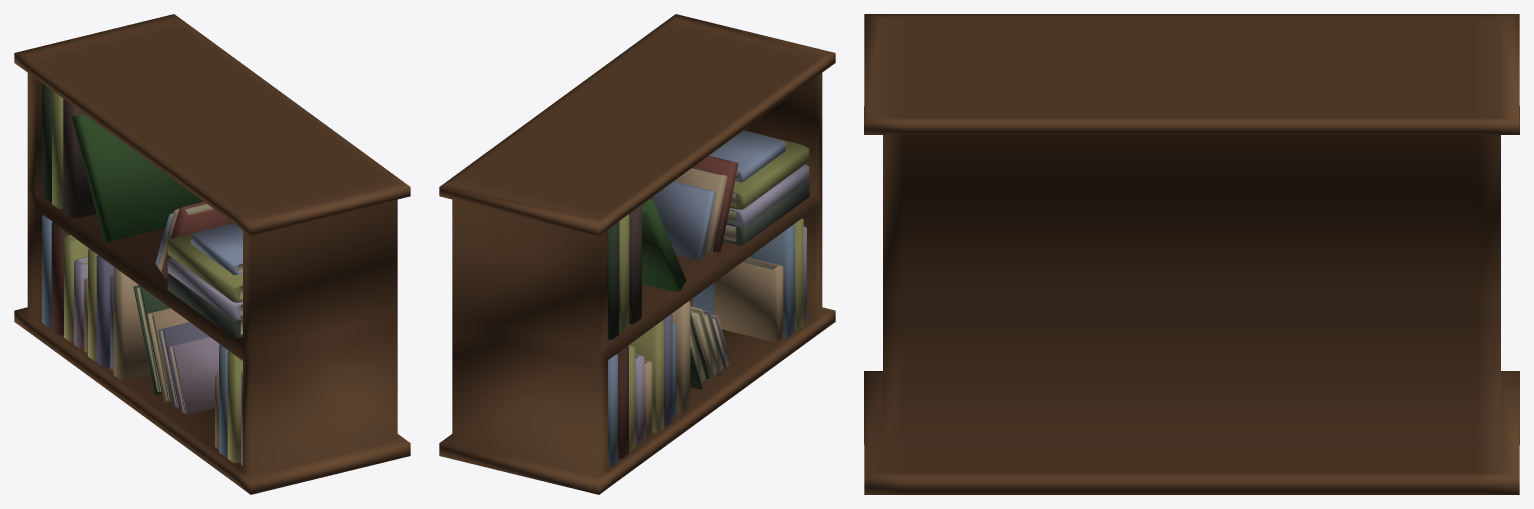
Rendered from Bookshelf.fbx.
3 renders of one model, left to right at view 1: azimuth 30°, elevation 25°; view 2: azimuth 150°, elevation 25°; view 3: azimuth 270°, elevation 25°, orthographic. The views are drawn at different scales.
Parts seen in each view (by area): view 1: Cube.025; view 2: Cube.025; view 3: Cube.025.
Part boxes in pixels (left/top/right/bottom): Cube.025: left=14, top=14, right=410, bottom=494; Cube.025: left=439, top=14, right=835, bottom=494; Cube.025: left=864, top=14, right=1519, bottom=494.
Bounding box in the file's own units: 33.43 × 13.06 × 20.97.
